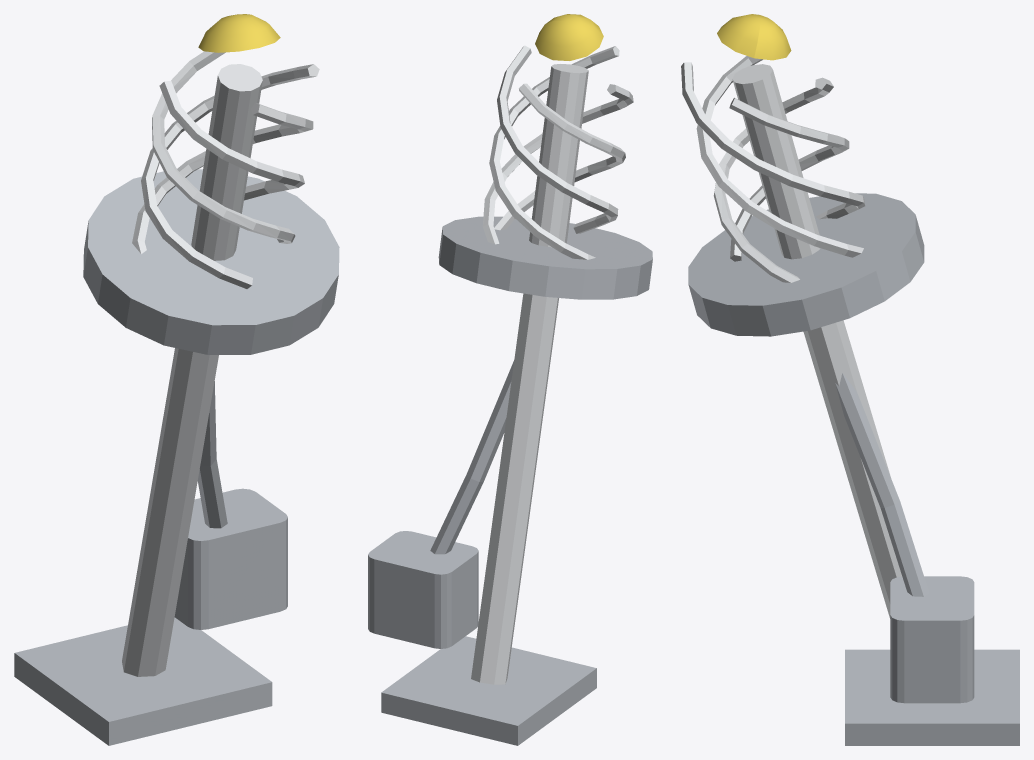
File: orbital-station-and-docking-bays-s-band-antenna-46c52ddf__24560.glb
3 renders of one model, left to right at view 1: azimuth 30°, elevation 25°; view 2: azimuth 150°, elevation 25°; view 3: azimuth 270°, elevation 25°, orthographic. The views are drawn at different scales.
Parts seen in each view (by area): view 1: s-band-antenna; view 2: s-band-antenna; view 3: s-band-antenna.
Part boxes in pixels (box(x1,y1,x2,y2)): s-band-antenna: box(14, 14, 339, 745); s-band-antenna: box(368, 14, 652, 745); s-band-antenna: box(681, 14, 1019, 745).
Size of the model in its own units: 0.73 by 2.18 by 0.9678.
